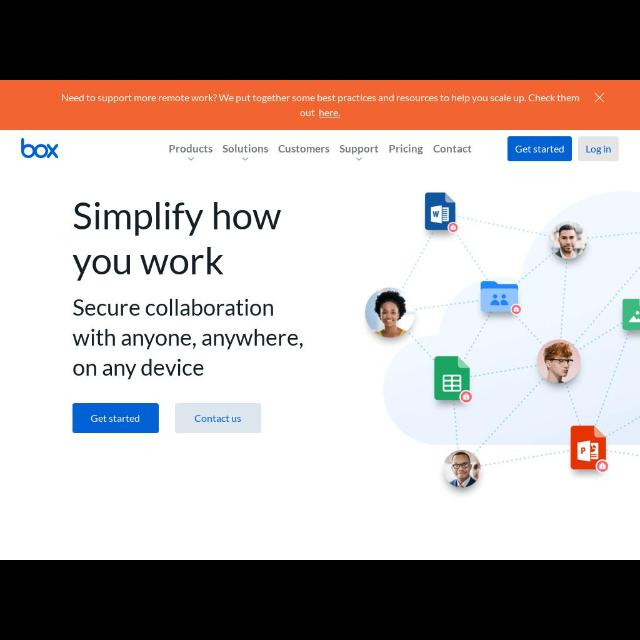backgroundimage: (1, 130, 639, 560)
icon: (595, 92, 605, 104), (188, 157, 194, 161), (243, 157, 249, 161), (356, 158, 362, 160)
spinner: (224, 144, 268, 162), (170, 144, 212, 162), (340, 145, 380, 161)
text: (74, 202, 280, 235), (74, 328, 302, 350), (73, 248, 223, 280), (62, 95, 580, 104), (74, 300, 274, 316), (73, 360, 203, 380), (22, 138, 58, 160), (170, 144, 212, 154), (279, 145, 329, 153), (516, 145, 564, 153), (195, 414, 241, 422), (224, 145, 268, 153), (300, 110, 340, 118), (340, 146, 380, 154), (390, 144, 422, 154), (91, 416, 139, 422), (434, 146, 472, 152), (587, 146, 611, 154)
textbutton: (73, 403, 159, 433), (175, 404, 261, 434), (508, 136, 572, 162), (578, 137, 620, 161)
